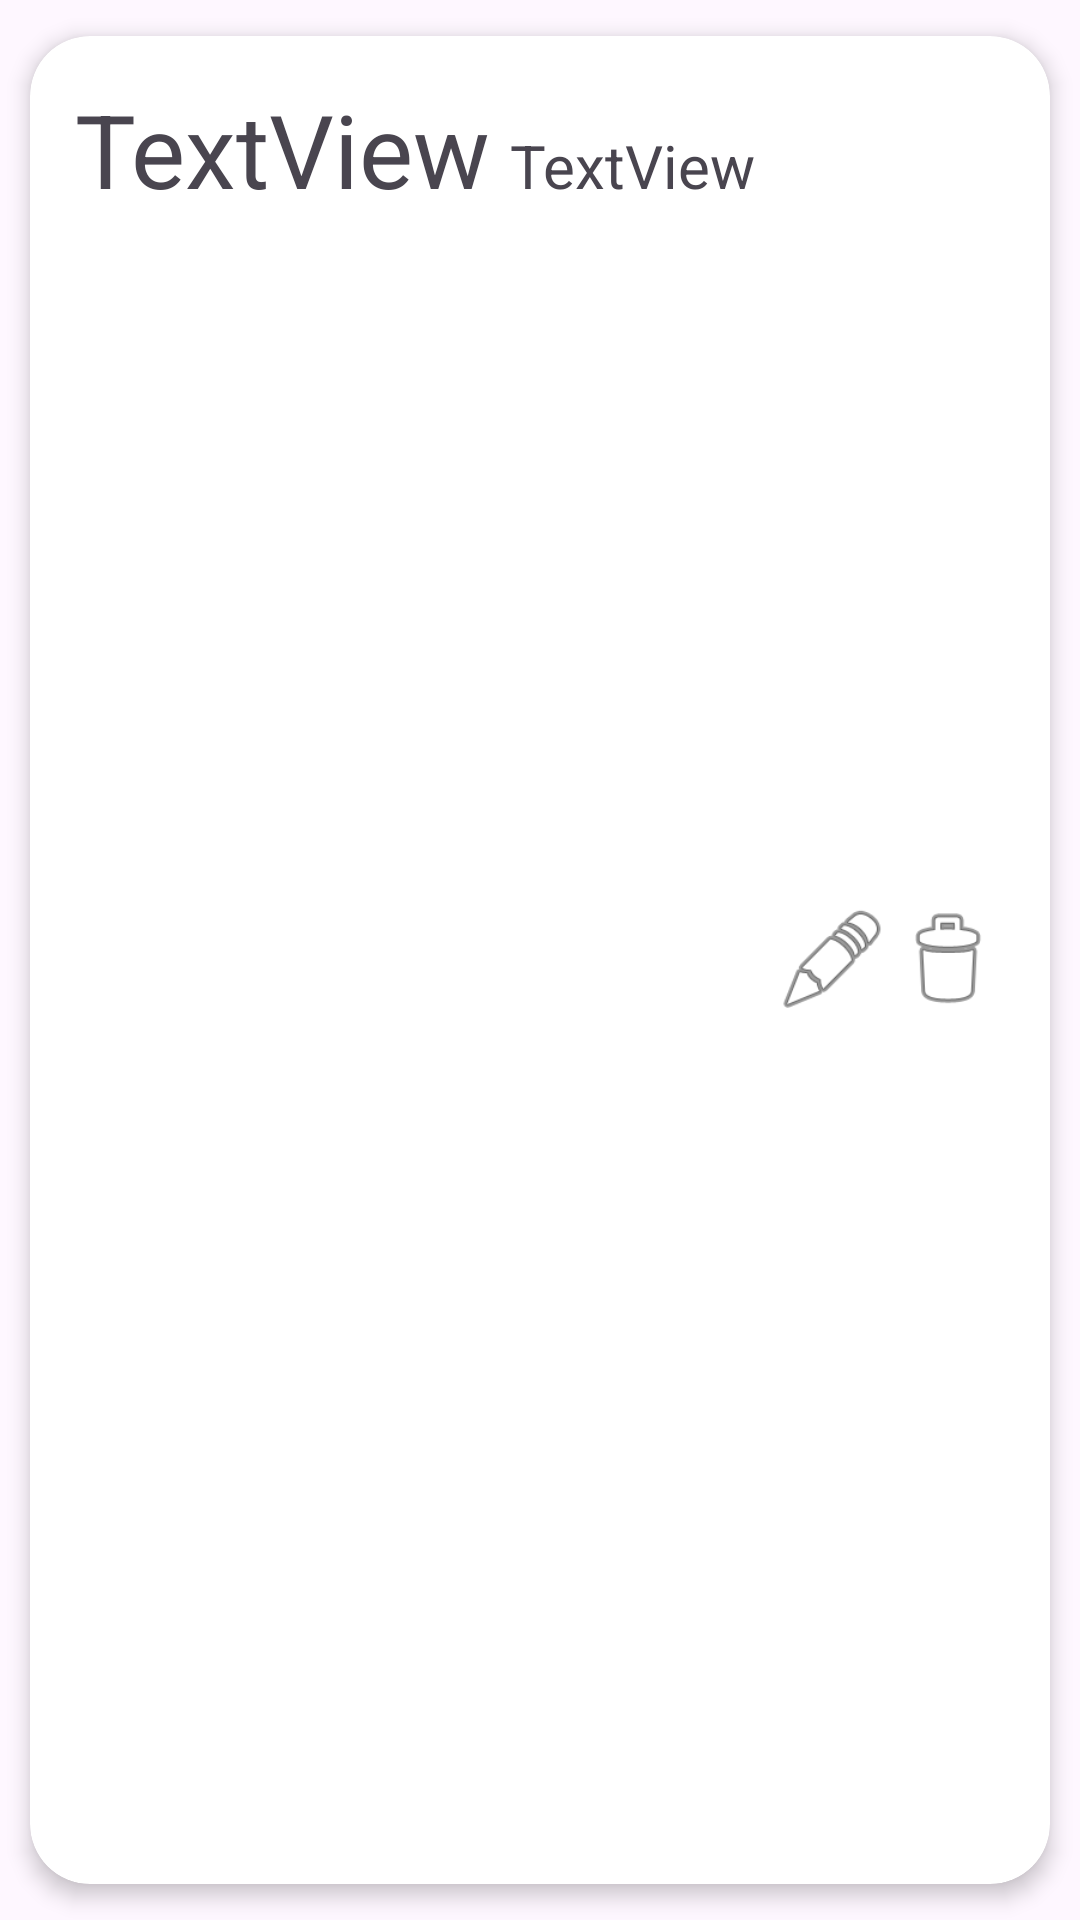

Locate icon controls on the screen. Image size 1080 × 1920, boxes as {"x1": x1, "y1": y1, "x2": x2, "y2": y2}.
delete: {"x1": 915, "y1": 913, "x2": 981, "y2": 1003}
edit: {"x1": 783, "y1": 911, "x2": 881, "y2": 1008}
